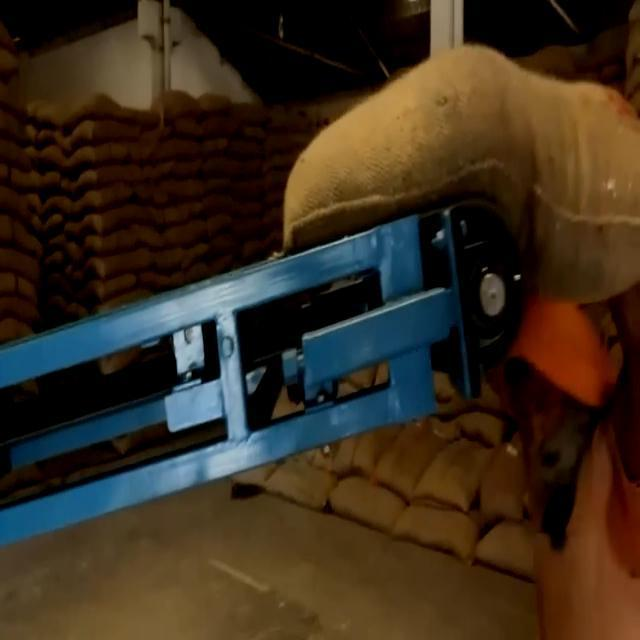gunny_bag: (275, 55, 640, 317), (412, 436, 504, 514), (368, 424, 450, 496), (396, 496, 474, 565), (323, 482, 403, 534), (64, 115, 136, 159), (71, 184, 138, 228), (59, 99, 130, 138), (71, 251, 142, 289), (67, 142, 131, 180), (72, 162, 138, 198), (154, 168, 210, 209), (154, 195, 205, 239), (146, 136, 207, 170), (143, 88, 200, 124), (78, 224, 142, 254), (162, 218, 210, 256), (0, 243, 41, 287), (0, 288, 37, 332), (0, 137, 36, 174), (0, 182, 36, 218), (260, 124, 307, 150), (220, 138, 266, 162), (1, 82, 30, 119), (196, 117, 238, 142), (192, 90, 228, 119), (198, 193, 244, 215), (222, 175, 266, 198), (223, 104, 266, 126)
